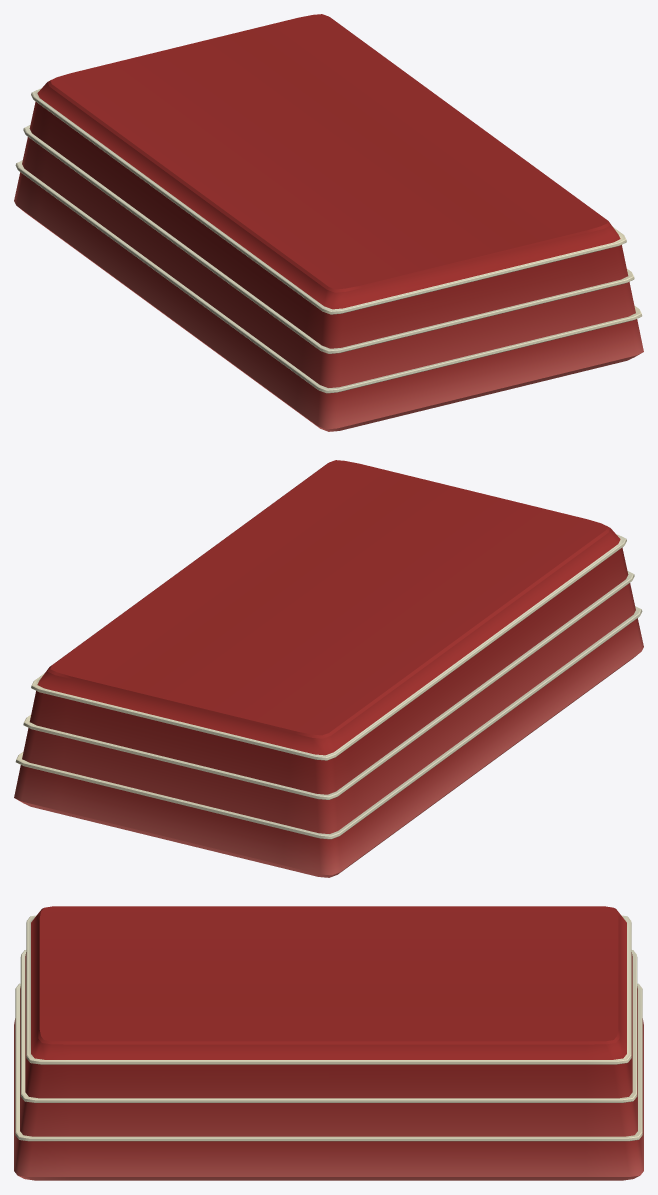
Rendered from ENV_Building_01.FBX.
3 renders of one model, top to bottom at view 1: azimuth 30°, elevation 25°; view 2: azimuth 150°, elevation 25°; view 3: azimuth 270°, elevation 25°, orthographic.
Visible parts, largest first — view 1: ENV_Building_01; view 2: ENV_Building_01; view 3: ENV_Building_01.
Part boxes in pixels (x1,y1,x2,y2): ENV_Building_01: [14, 14, 643, 431]; ENV_Building_01: [14, 460, 643, 877]; ENV_Building_01: [14, 906, 643, 1180].
Size of the model in its own units: 1408 by 544 by 2377.
2 materials, 2 textured.
